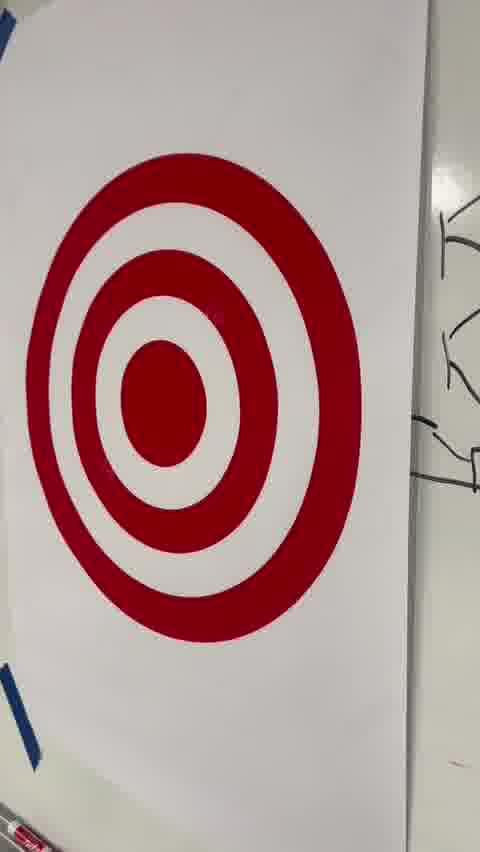target_red: (26, 151, 363, 643)
